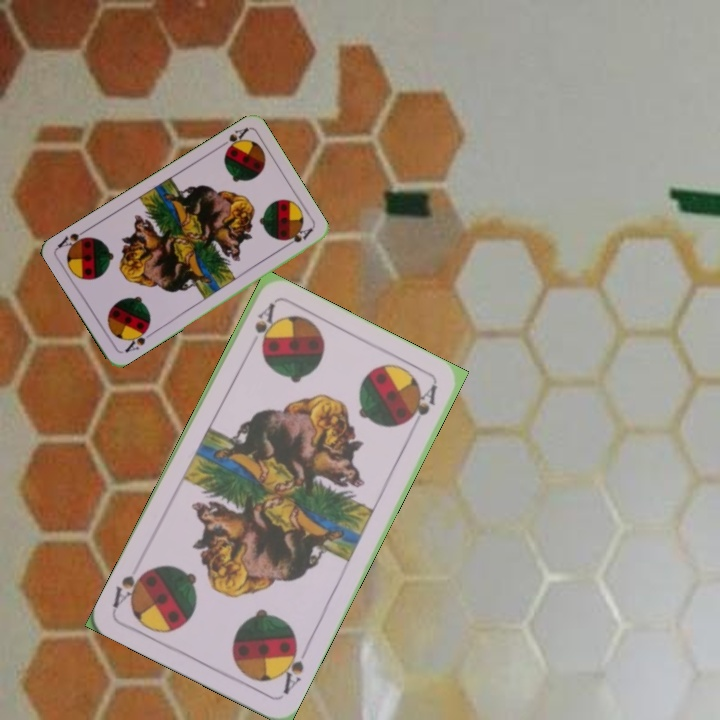SA: (275, 638, 312, 698), (250, 299, 278, 351), (214, 123, 251, 156), (121, 323, 155, 355)
